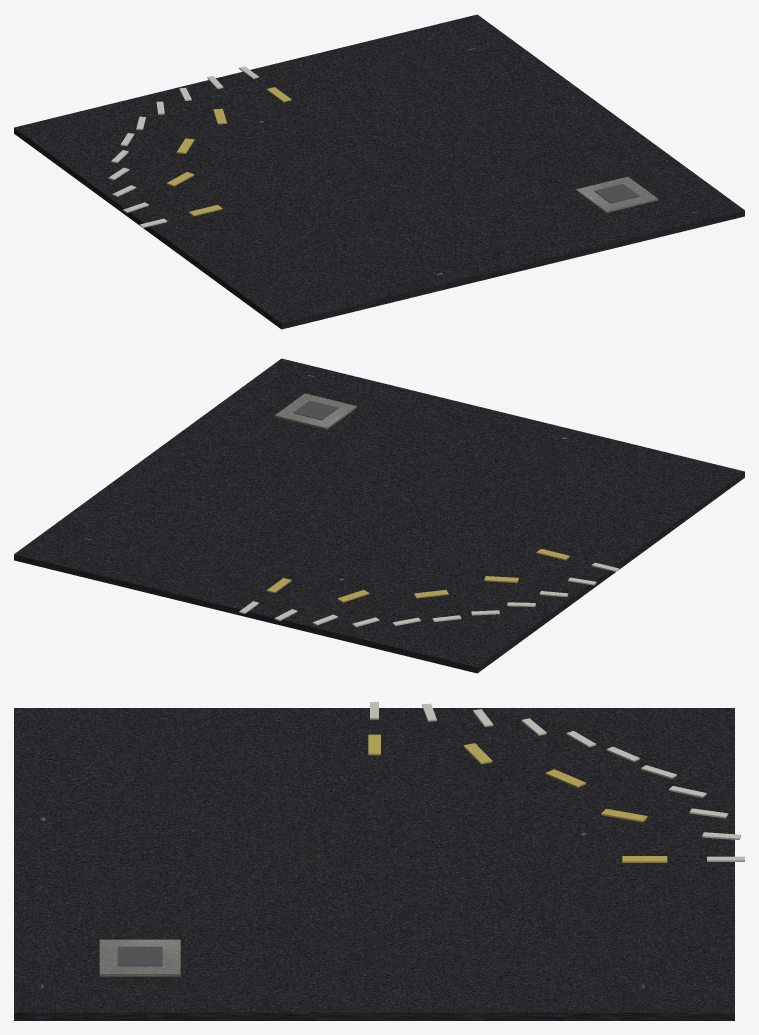
The model's file is WK_TER_RoadCorner.glb.
3 renders of one model, top to bottom at view 1: azimuth 30°, elevation 25°; view 2: azimuth 150°, elevation 25°; view 3: azimuth 270°, elevation 25°, orthographic. The views are drawn at different scales.
Parts seen in each view (by area): view 1: WK_TER_RoadCorner_P02, WK_TER_RoadCorner_P01, WK_TER_RoadCorner_P19, WK_TER_RoadCorner_P20; view 2: WK_TER_RoadCorner_P02, WK_TER_RoadCorner_P01, WK_TER_RoadCorner_P19, WK_TER_RoadCorner_P20; view 3: WK_TER_RoadCorner_P02, WK_TER_RoadCorner_P01, WK_TER_RoadCorner_P19, WK_TER_RoadCorner_P20.
Part boxes in pixels (x1,y1,x2,y2): WK_TER_RoadCorner_P02: (14, 14, 744, 323); WK_TER_RoadCorner_P01: (14, 128, 744, 329); WK_TER_RoadCorner_P19: (576, 176, 658, 212); WK_TER_RoadCorner_P20: (594, 184, 639, 203); WK_TER_RoadCorner_P02: (14, 358, 744, 667); WK_TER_RoadCorner_P01: (14, 472, 744, 673); WK_TER_RoadCorner_P19: (274, 393, 356, 429); WK_TER_RoadCorner_P20: (293, 400, 338, 420); WK_TER_RoadCorner_P02: (14, 708, 734, 1012); WK_TER_RoadCorner_P01: (14, 1012, 734, 1020); WK_TER_RoadCorner_P19: (99, 939, 180, 976); WK_TER_RoadCorner_P20: (117, 946, 162, 966).
Bounding box in the file's own units: 8.11 × 0.141 × 8.11.
6 materials, 3 textured.
